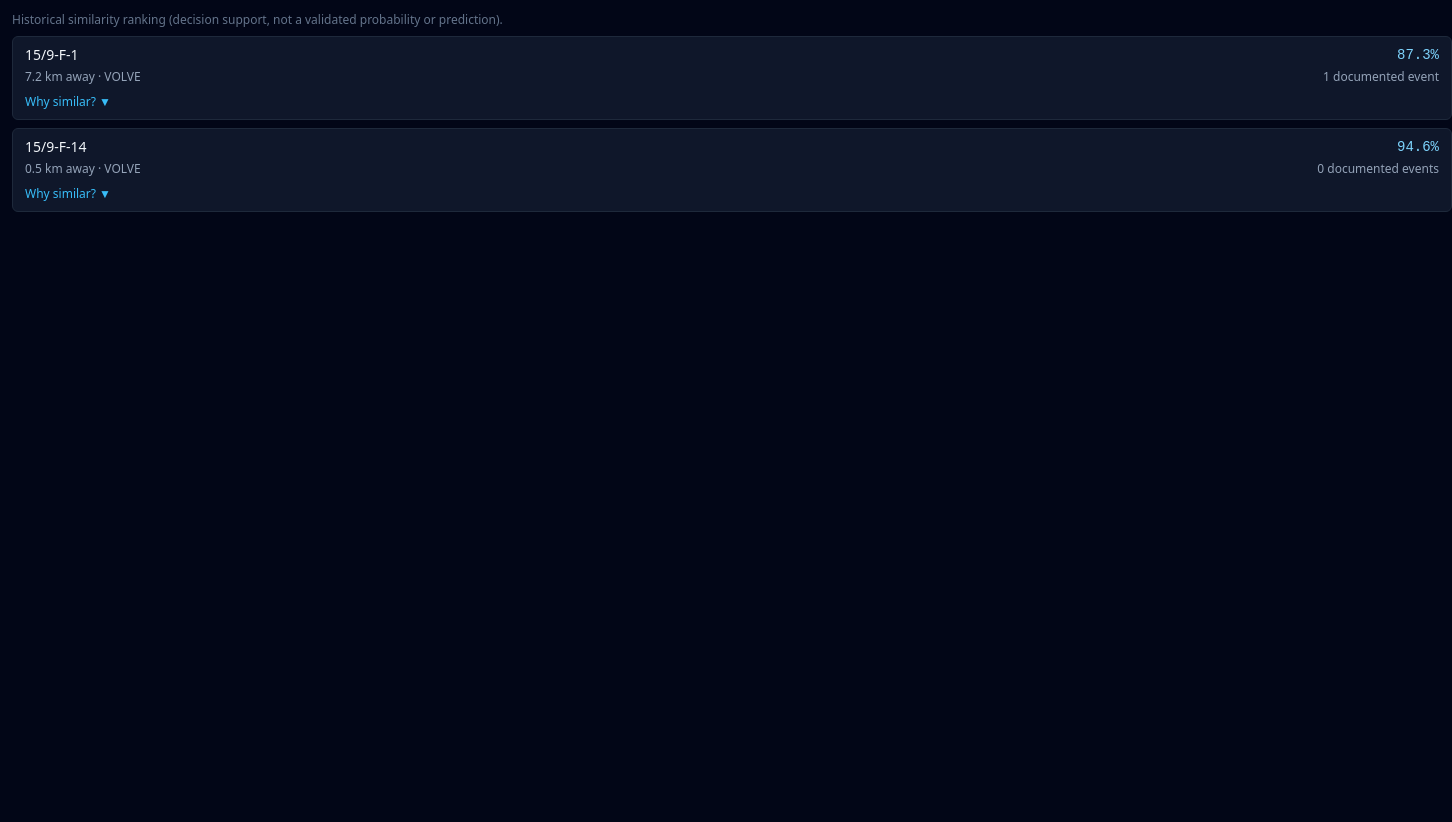
it: ComparableWellsPanel › lets each comparable well's breakdown expand independently
Click the 1st button "Why similar? ▼" at point(68, 102), box x1=25 y1=94 x2=111 y2=110
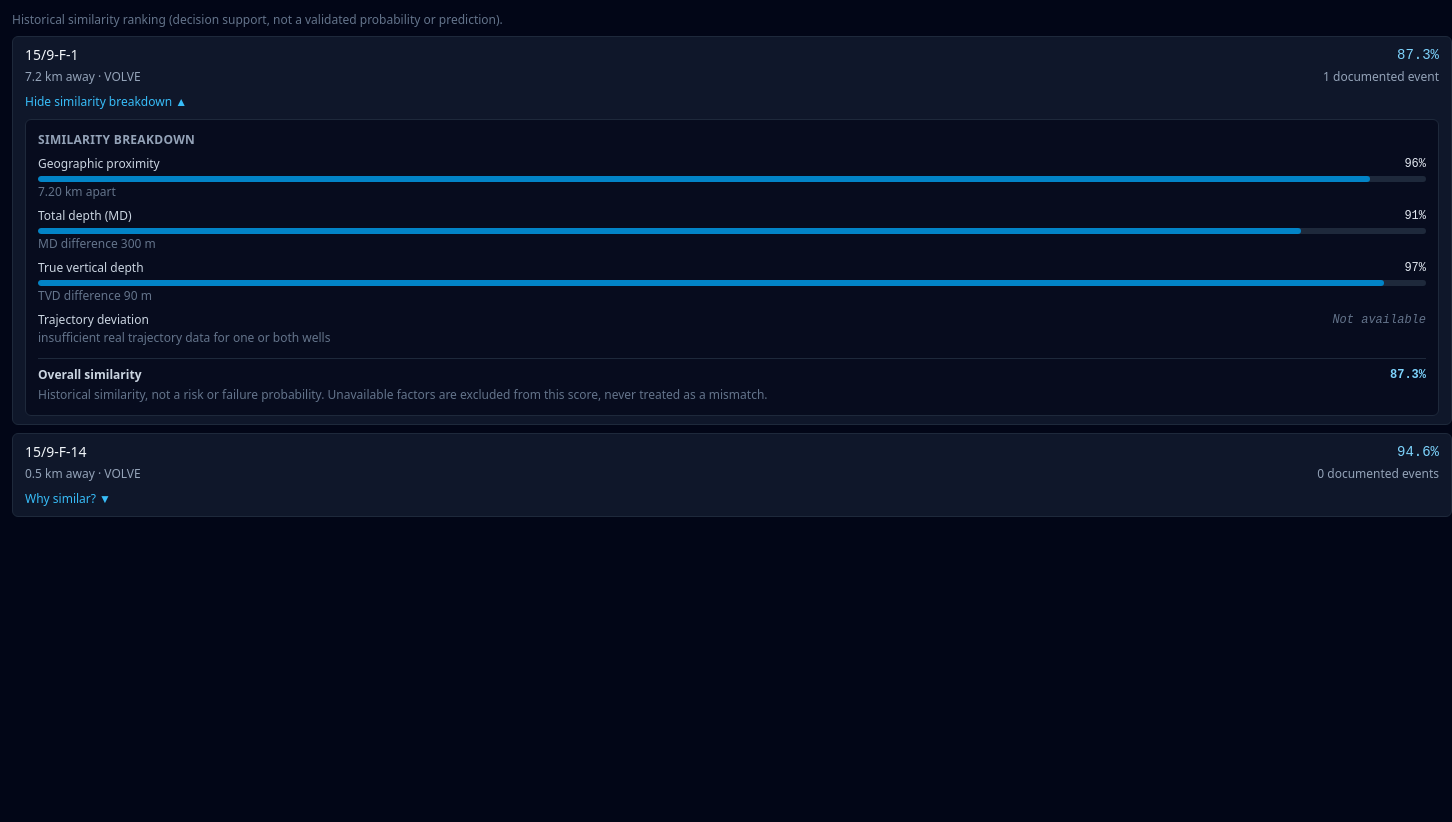
Check: the text "Geographic proximity" is shown, box x1=38 y1=156 x2=160 y2=172
Check: the text "Similarity breakdown" is shown once, box x1=38 y1=131 x2=195 y2=148
Note: Only F-14's toggle still reads "Why similar?" -- F-1's now reads "Hide...".
Click the button "Why similar? ▼" at point(68, 499), box x1=25 y1=491 x2=111 y2=507
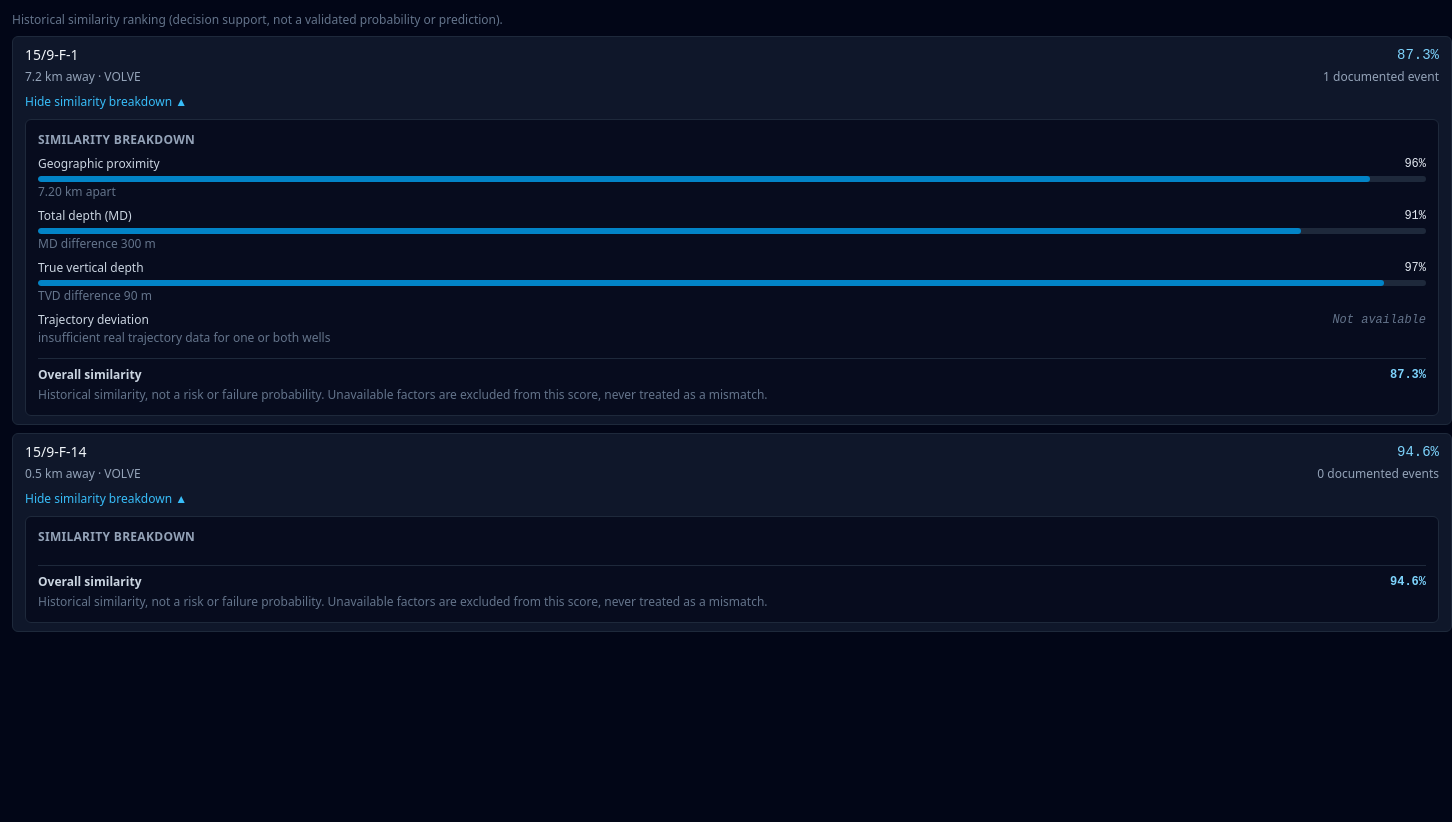
Check: the text "Similarity breakdown" is shown 2 times, box x1=38 y1=131 x2=195 y2=148; x1=38 y1=528 x2=195 y2=545
